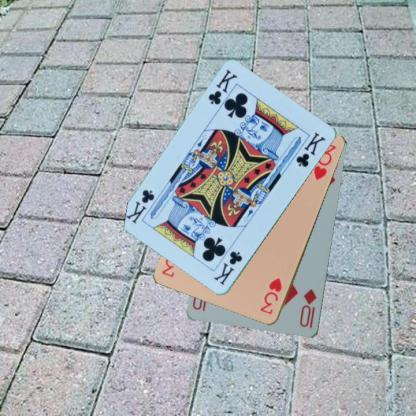10d: (297, 286, 318, 330)
3h: (257, 275, 284, 316)
Kc: (206, 67, 239, 107), (210, 249, 244, 286)
